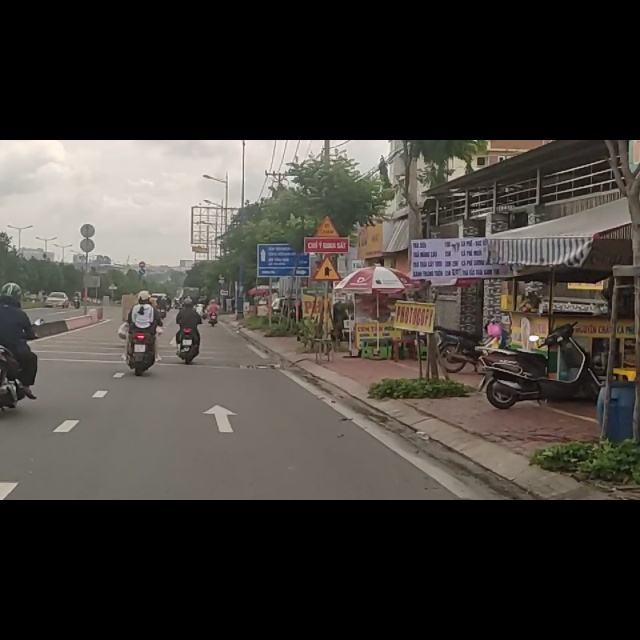bien_hieu_lenh: (312, 203, 343, 251), (313, 132, 341, 172)
